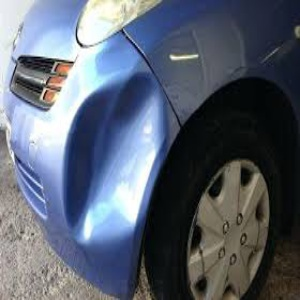bumper: (58, 48, 164, 298)
